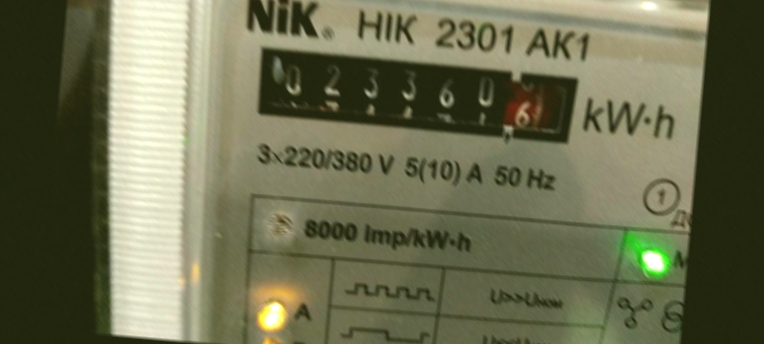0: (279, 58, 304, 95), (471, 71, 496, 108)
2: (319, 60, 343, 97)
3: (357, 63, 380, 100), (396, 66, 417, 101)
6: (433, 72, 456, 108), (510, 94, 530, 128)
screen: (238, 32, 596, 162)
